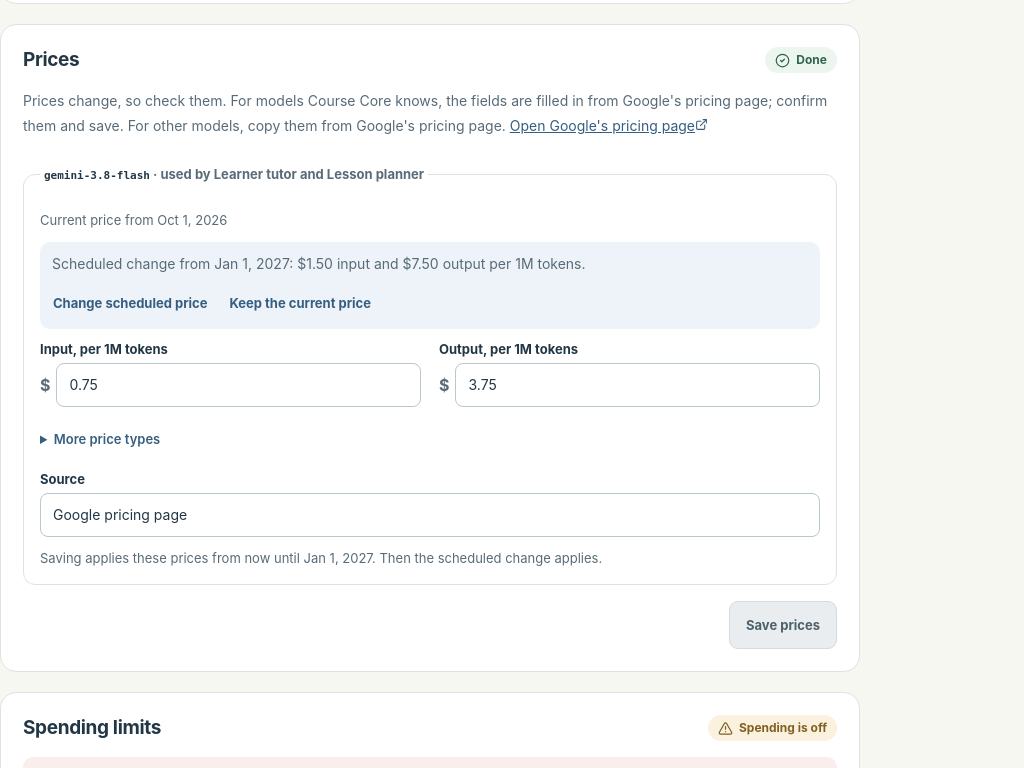
Test: a price change already scheduled › shows the scheduled change and what saving now does, and saves today's price before it
(page scrolled)
Replace the text in the field showing "0.75" with "0.80" at (239, 385), box 56,363 -> 421,407
(page scrolled)
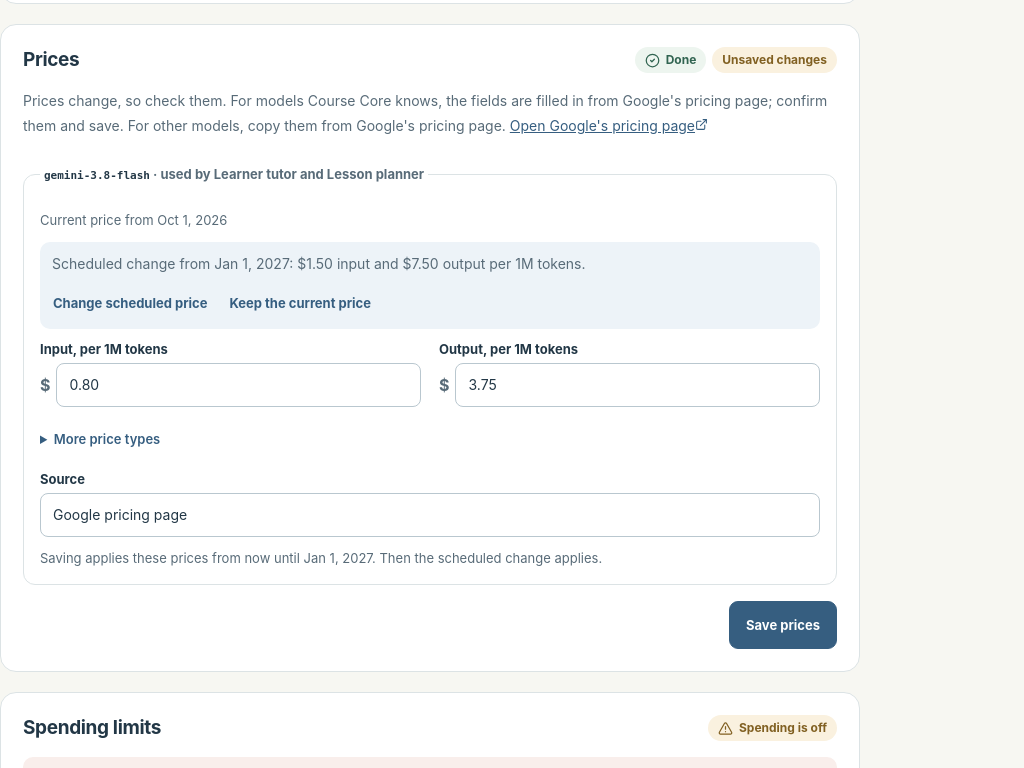
Click the button "Save prices" at (783, 625), box 729,601 -> 837,649
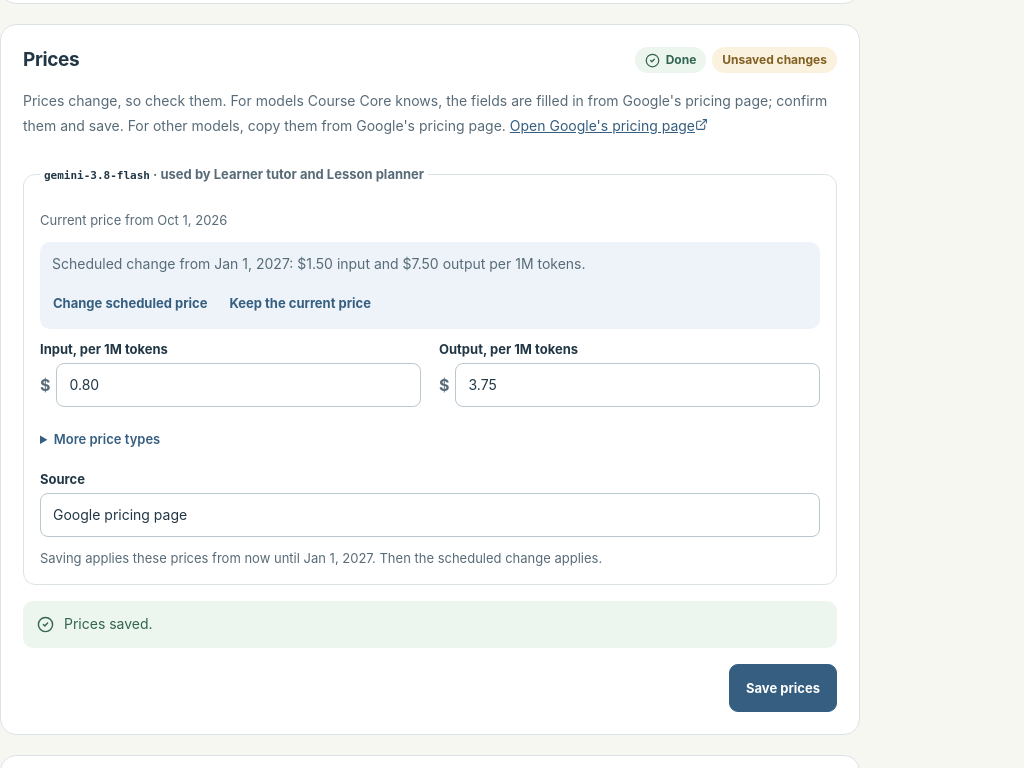
Check: the text "Prices saved." is shown, box 64,613 -> 153,636
